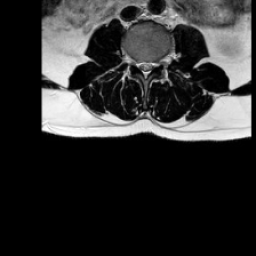CCS_normal: (141, 52, 148, 84)
LFS_normal: (154, 51, 162, 73)
LLS_normal: (148, 52, 154, 76)
RFS_normal: (129, 51, 136, 71)
RLS_normal: (135, 53, 141, 74)
